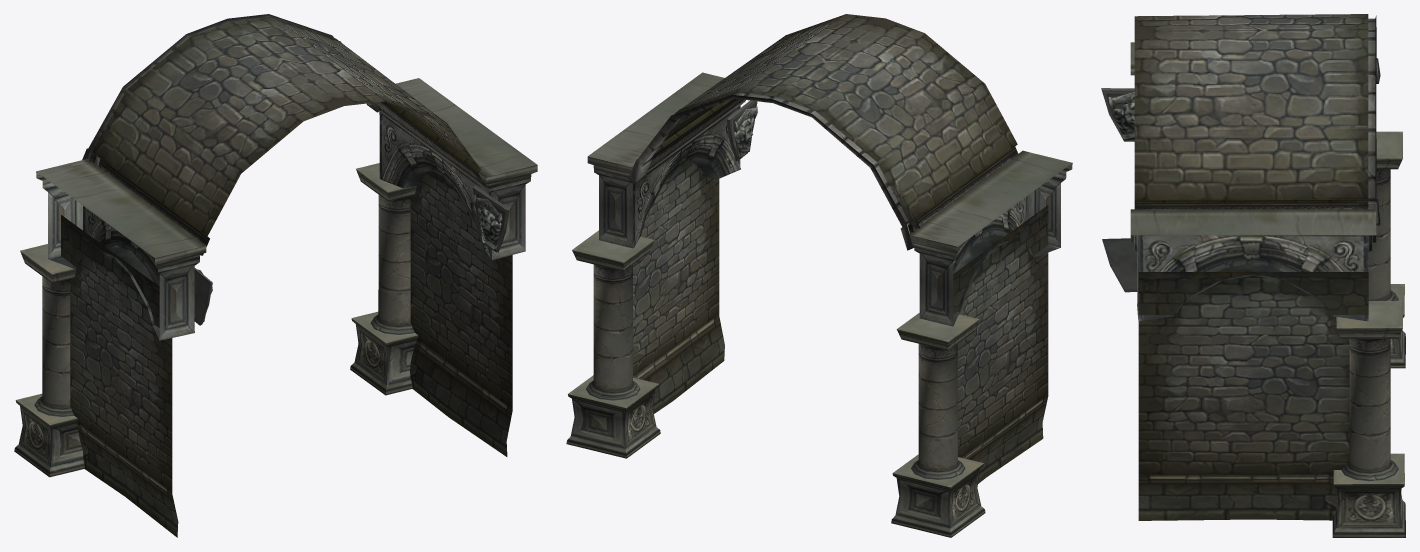
The model's file is DN_1_4_ldao01.FBX.
3 views of the same model, side by side, from view 1: azimuth 30°, elevation 25°; view 2: azimuth 150°, elevation 25°; view 3: azimuth 270°, elevation 25° (orthographic). The views are drawn at different scales.
Visible parts, largest first — view 1: DN_1_4_ldao01; view 2: DN_1_4_ldao01; view 3: DN_1_4_ldao01.
Boxes of the visible parts, left/top/right/bottom form: DN_1_4_ldao01: left=14, top=14, right=537, bottom=537; DN_1_4_ldao01: left=566, top=14, right=1072, bottom=537; DN_1_4_ldao01: left=1101, top=14, right=1405, bottom=537.
Bounding box in the file's own units: 938 × 889 × 601.
